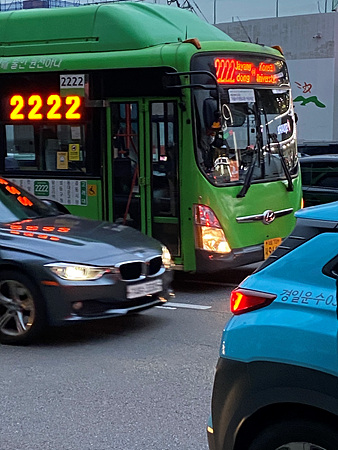entrance: (103, 95, 185, 250)
